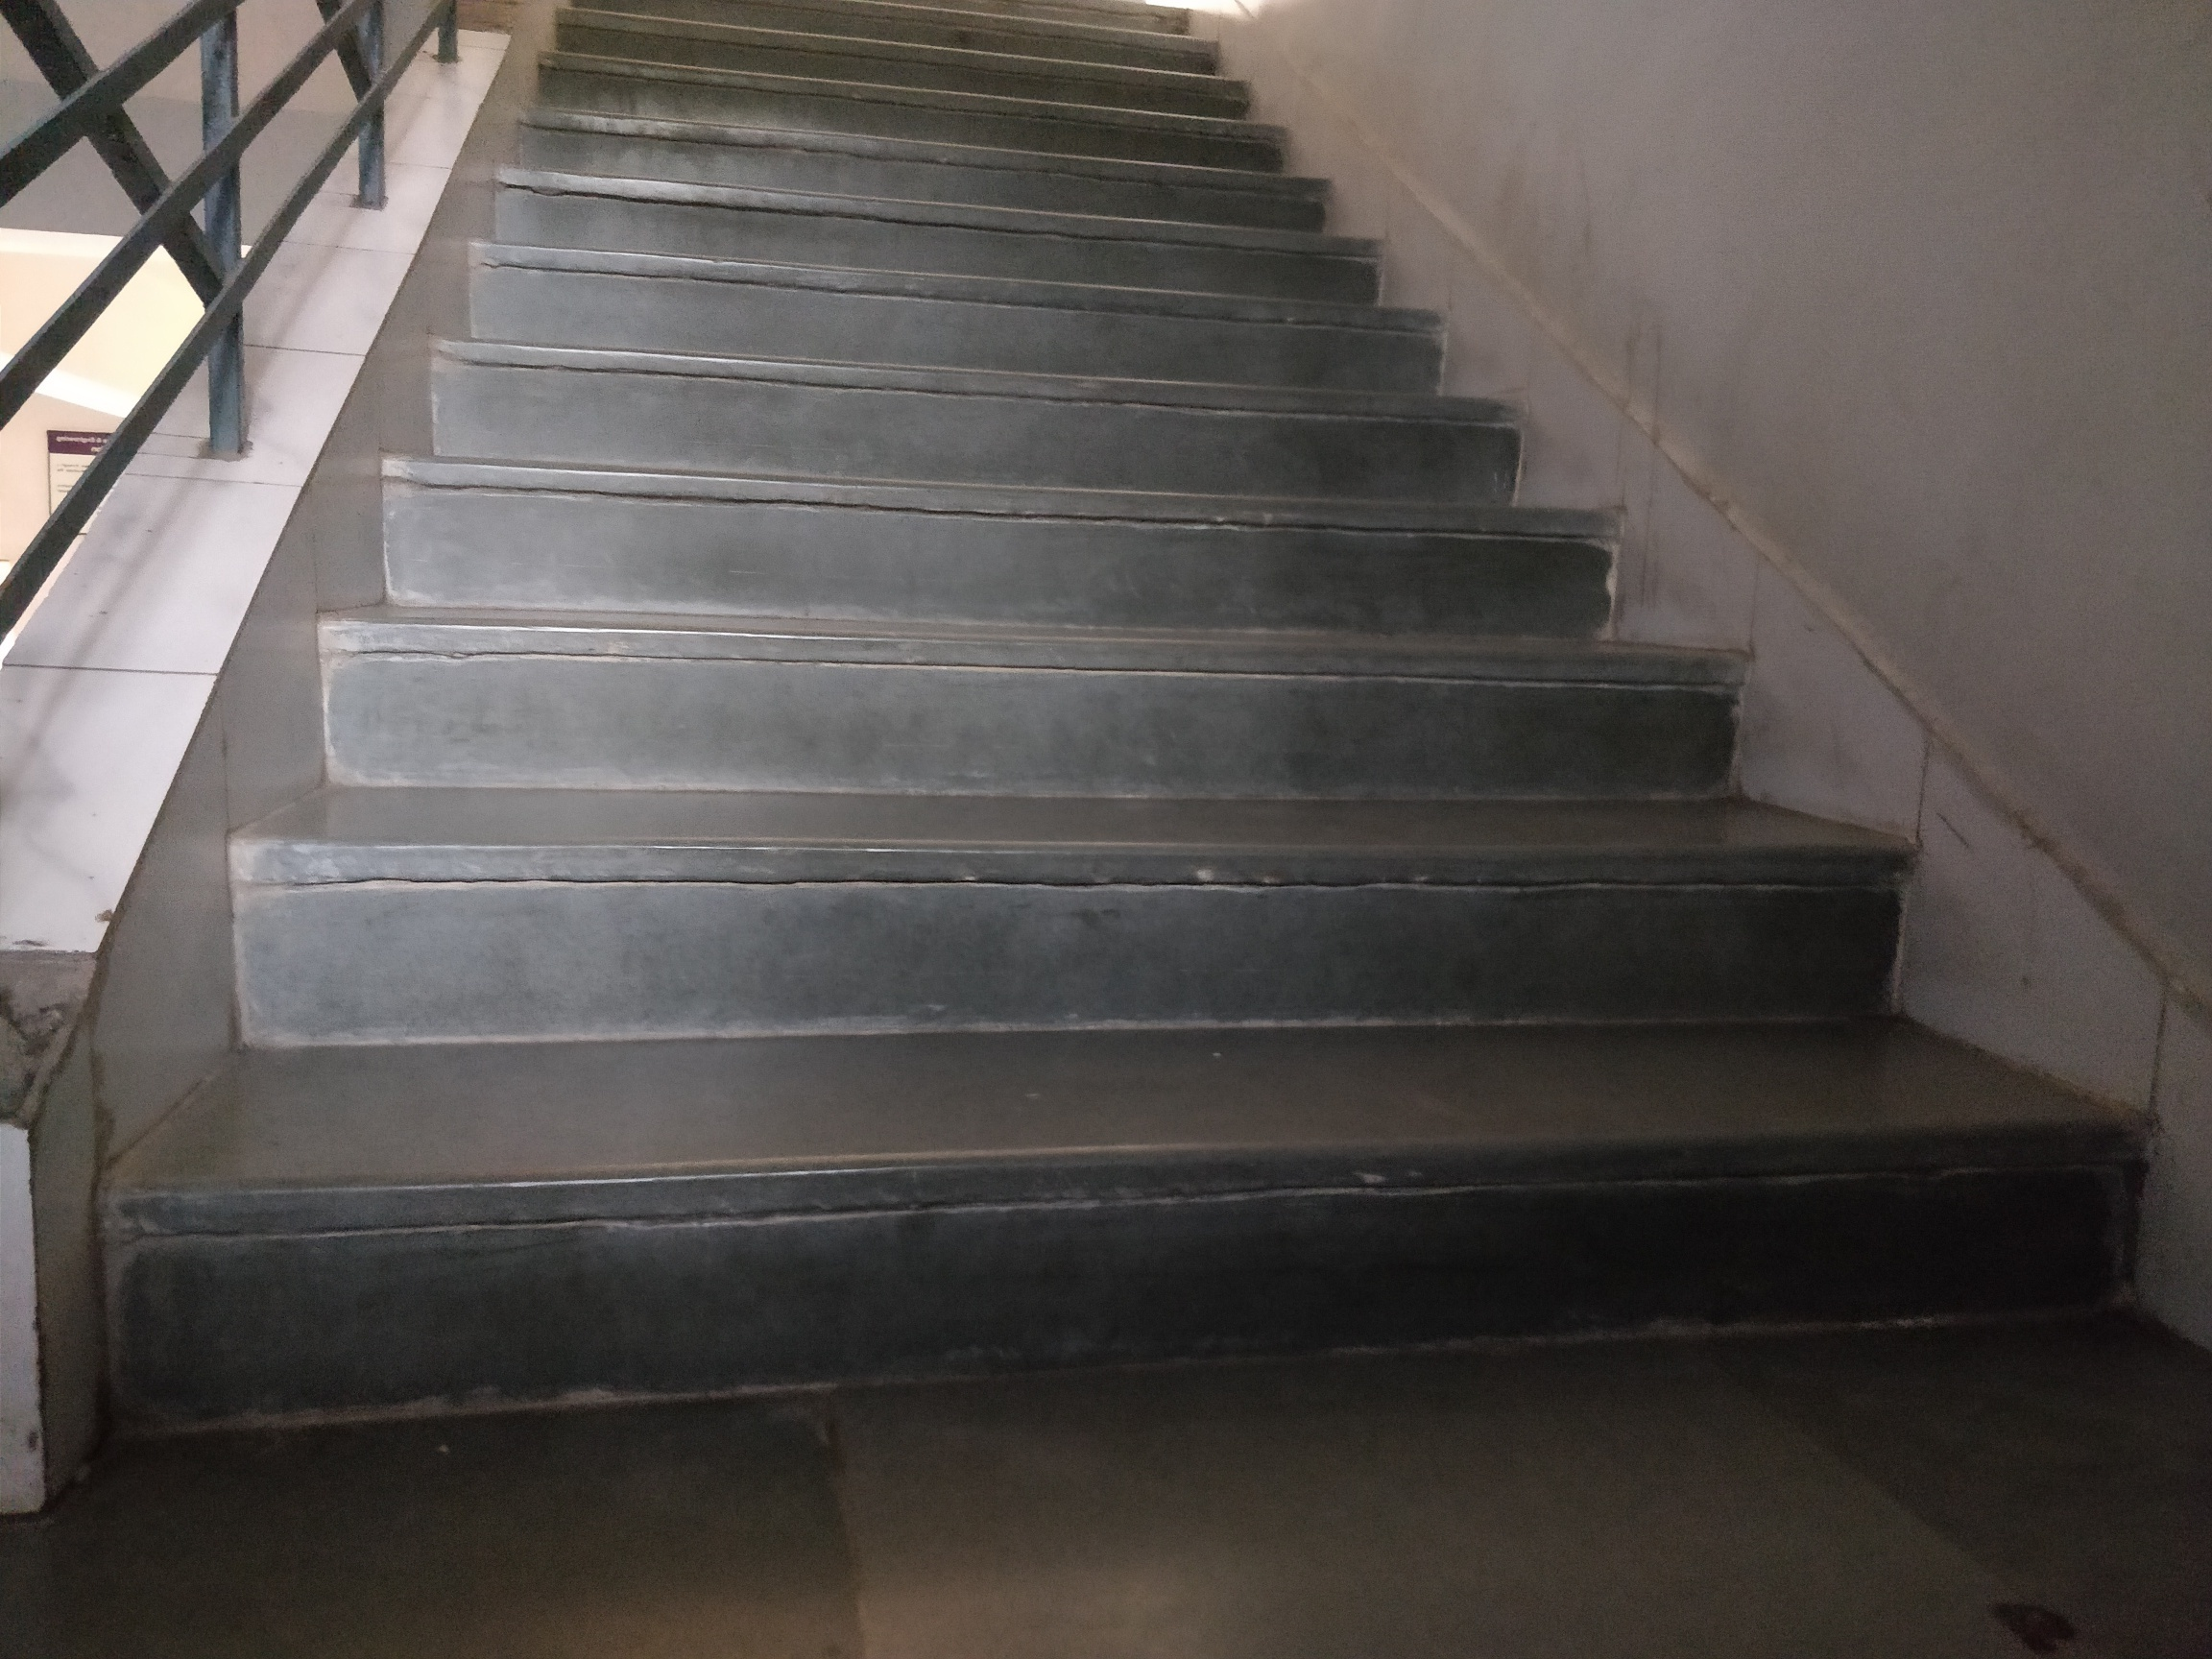stairs_up: (120, 2, 2139, 1364)
